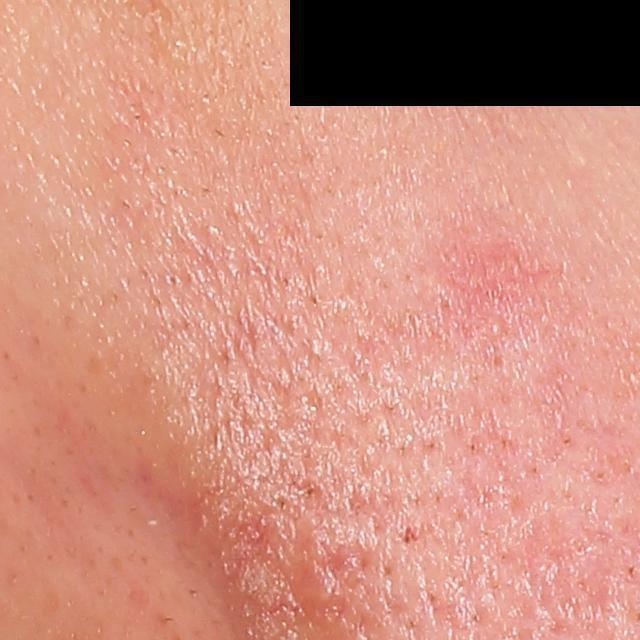comedo: (483, 315, 509, 340)
